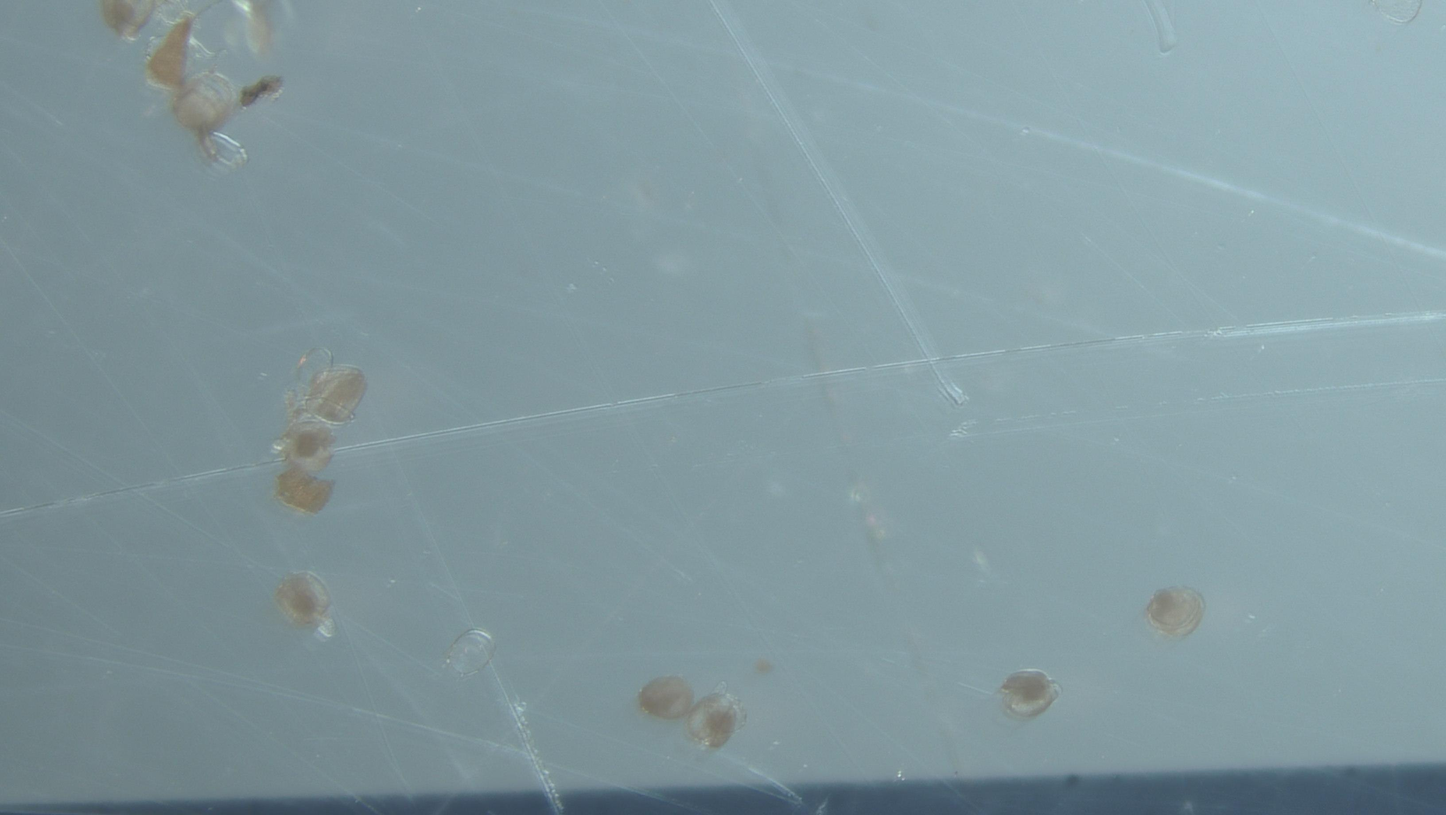dead: (444, 629, 495, 677)
live: (999, 670, 1061, 721), (274, 572, 330, 628), (688, 693, 743, 750), (1146, 587, 1205, 640), (638, 676, 694, 720)
